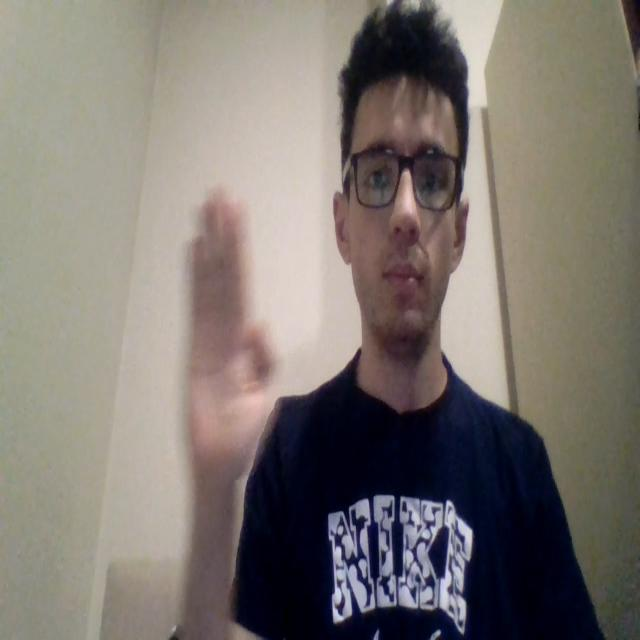hello: (179, 185, 280, 487)
